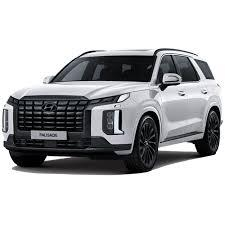hyundai: (39, 99, 67, 118)
